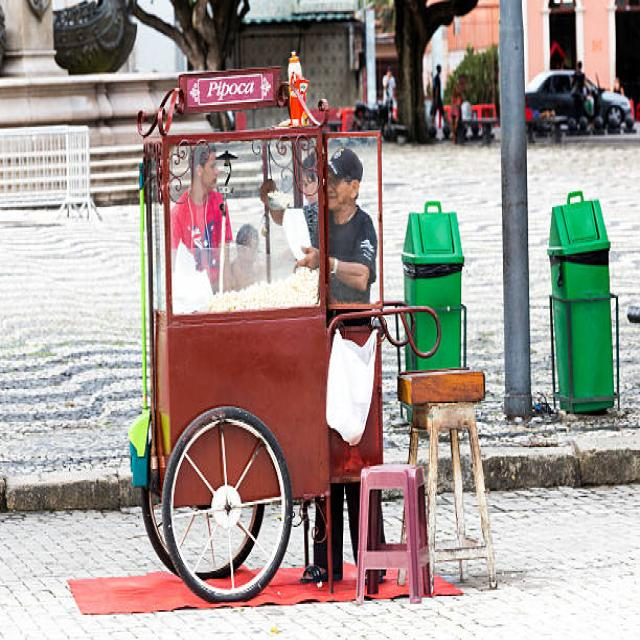Emperan: (125, 65, 448, 608)
